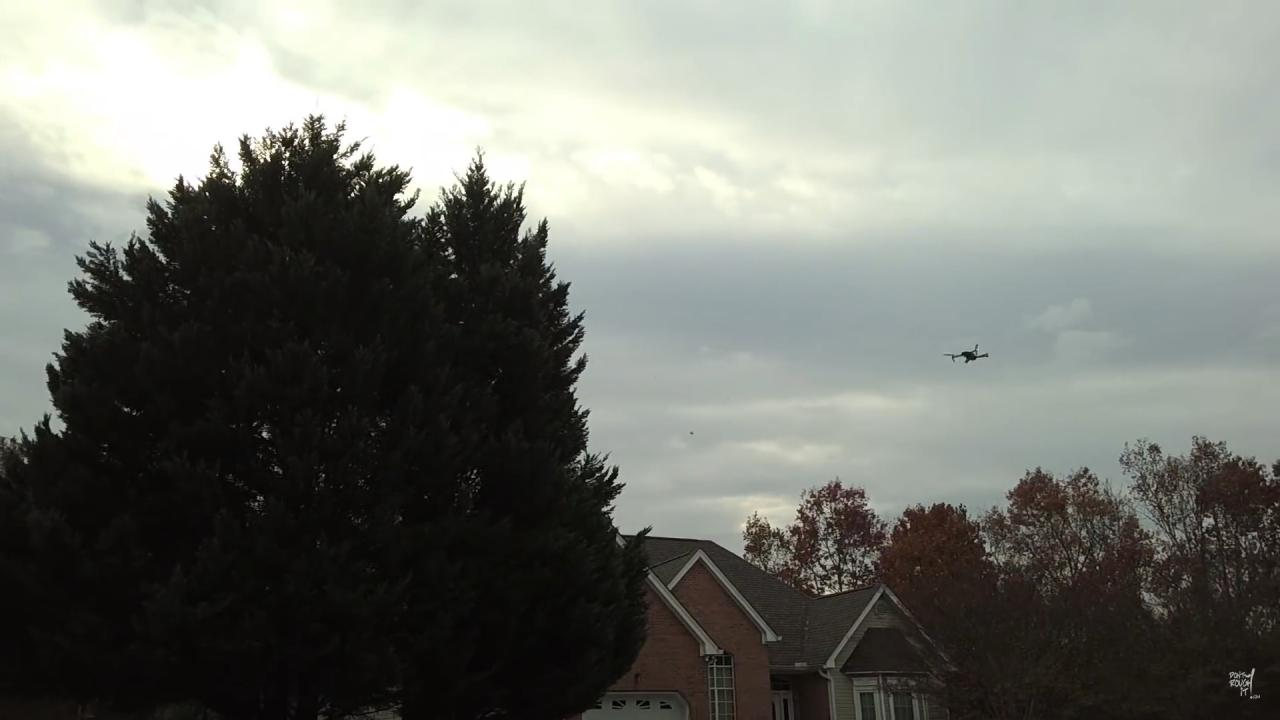Drone: (942, 340, 998, 372)
